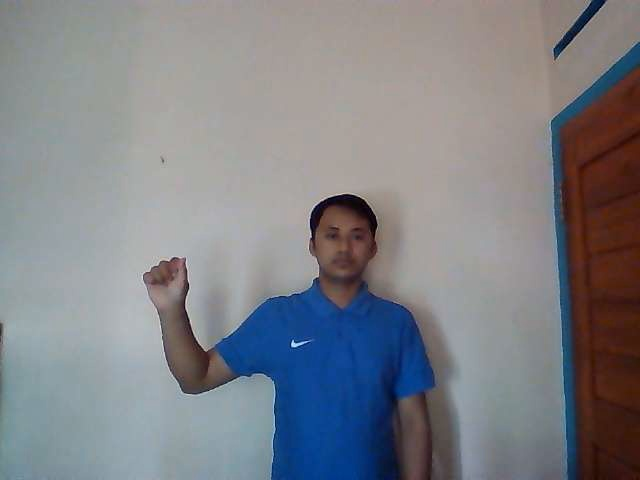A: (141, 256, 190, 306)
